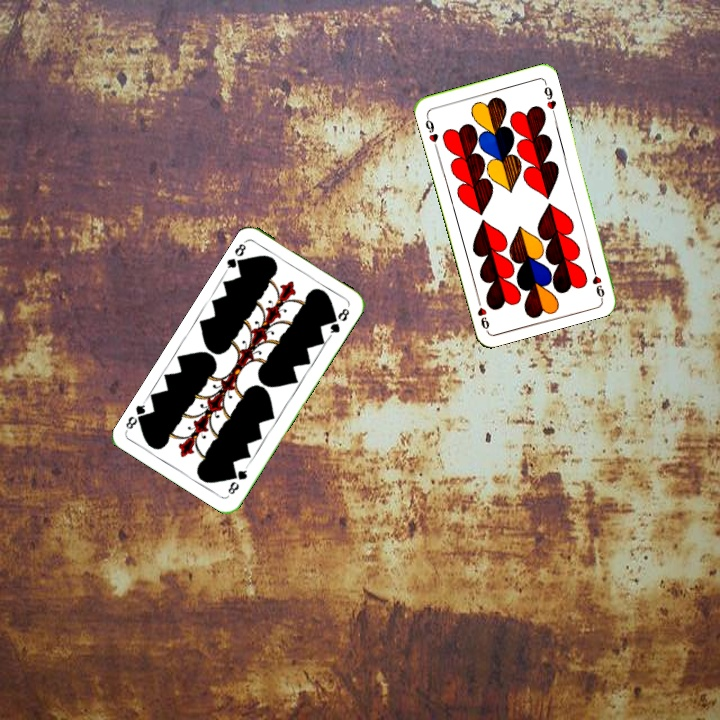G8: (222, 237, 249, 274), (224, 462, 251, 497)
H9: (421, 111, 441, 151), (588, 260, 607, 301)
